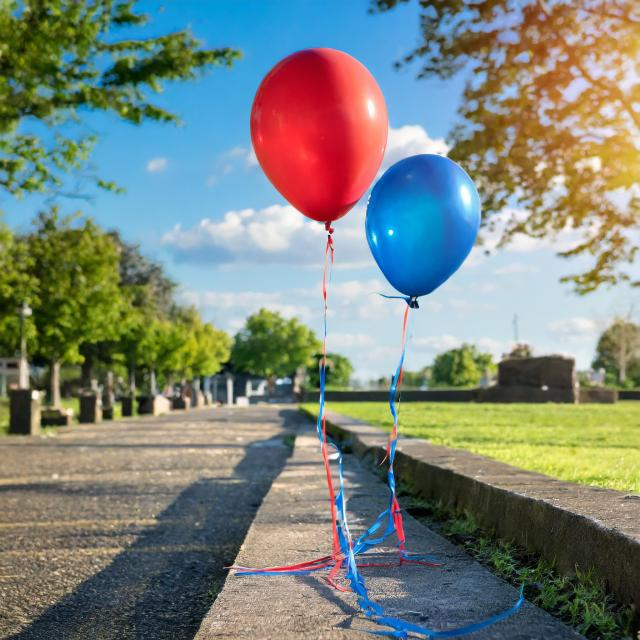blue: (366, 155, 482, 297)
red: (251, 48, 389, 226)
